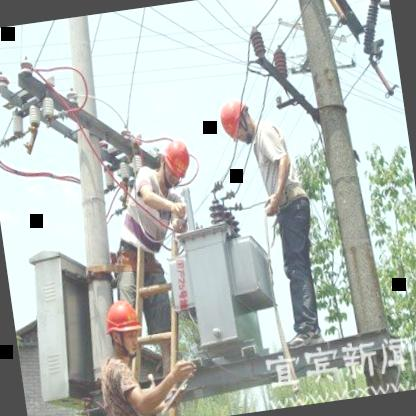helmet: (100, 294, 146, 357), (154, 132, 198, 188), (212, 93, 258, 144)
